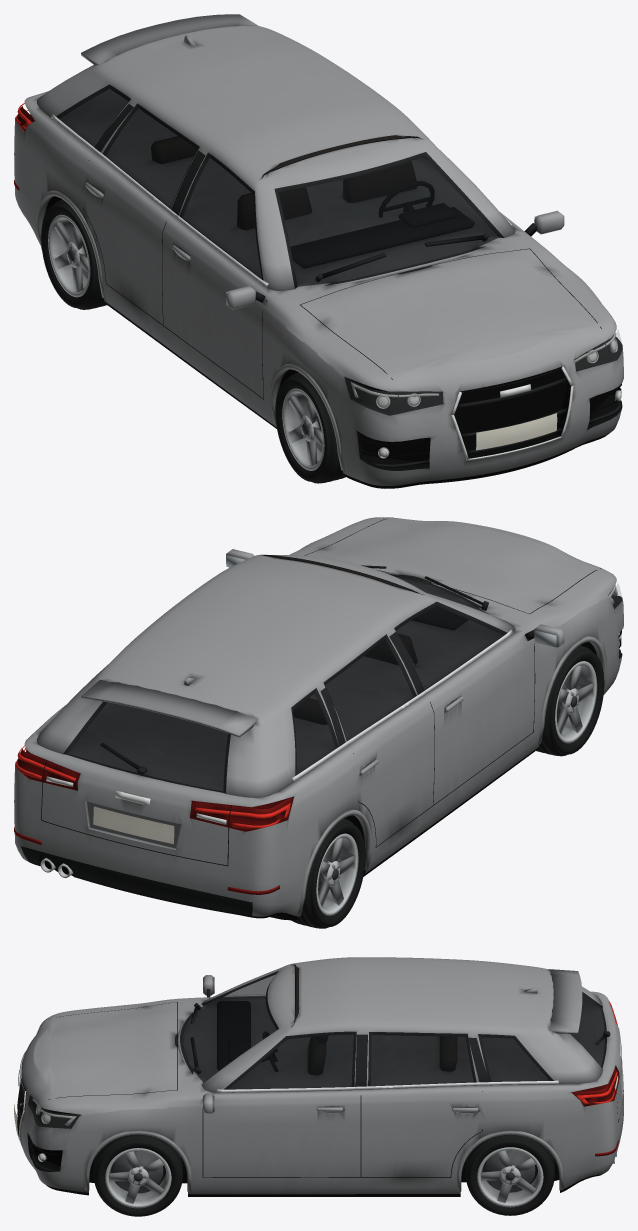
The model's file is audi-a3-2-0-tfsi.glb.
3 renders of one model, top to bottom at view 1: azimuth 30°, elevation 25°; view 2: azimuth 150°, elevation 25°; view 3: azimuth 270°, elevation 25°, orthographic. The views are drawn at different scales.
Visible parts, largest first — view 1: Coachwork, Body, Wheel_FR, Wheel_RR, Plate, Headlights; view 2: Coachwork, Body, Wheel_FR, Wheel_RR, Taillights, Plate; view 3: Coachwork, Body, Wheel_FL, Wheel_RL, Taillights.
Boxes of the visible parts, box(x1,y1,x2,y2) form: Coachwork: box(14, 89, 623, 488); Body: box(14, 14, 622, 471); Wheel_FR: box(275, 372, 345, 483); Wheel_RR: box(41, 199, 107, 309); Plate: box(476, 413, 557, 450); Headlights: box(350, 332, 621, 457); Coachwork: box(14, 517, 623, 920); Body: box(14, 517, 622, 916); Wheel_FR: box(536, 645, 604, 756); Wheel_RR: box(291, 818, 365, 928); Taillights: box(16, 745, 292, 831); Plate: box(93, 806, 174, 844); Coachwork: box(17, 991, 623, 1196); Body: box(15, 957, 623, 1191); Wheel_FL: box(93, 1134, 182, 1216); Wheel_RL: box(465, 1134, 554, 1215); Taillights: box(571, 1001, 617, 1106).
Bounding box in the file's own units: 2.16 × 1.43 × 4.32.
